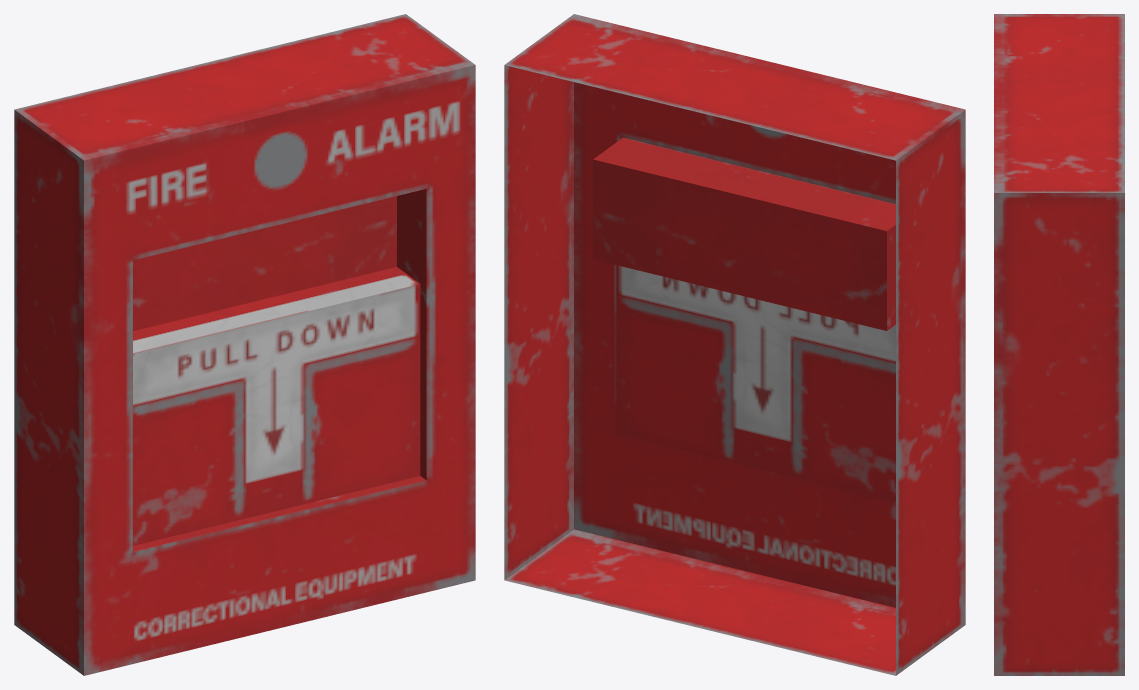
The model's file is SM_FireAlarm.fbx.
3 views of the same model, side by side, from view 1: azimuth 30°, elevation 25°; view 2: azimuth 150°, elevation 25°; view 3: azimuth 270°, elevation 25° (orthographic). The views are drawn at different scales.
Parts seen in each view (by area): view 1: SM_FireAlarm; view 2: SM_FireAlarm; view 3: SM_FireAlarm.
Boxes of the visible parts, x1,y1,x2,y2 form: SM_FireAlarm: (14,14,475,675); SM_FireAlarm: (504,14,965,675); SM_FireAlarm: (994,14,1124,675).
Bounding box in the file's own units: 15.15 × 4.67 × 19.05.
1 material, 1 textured.
